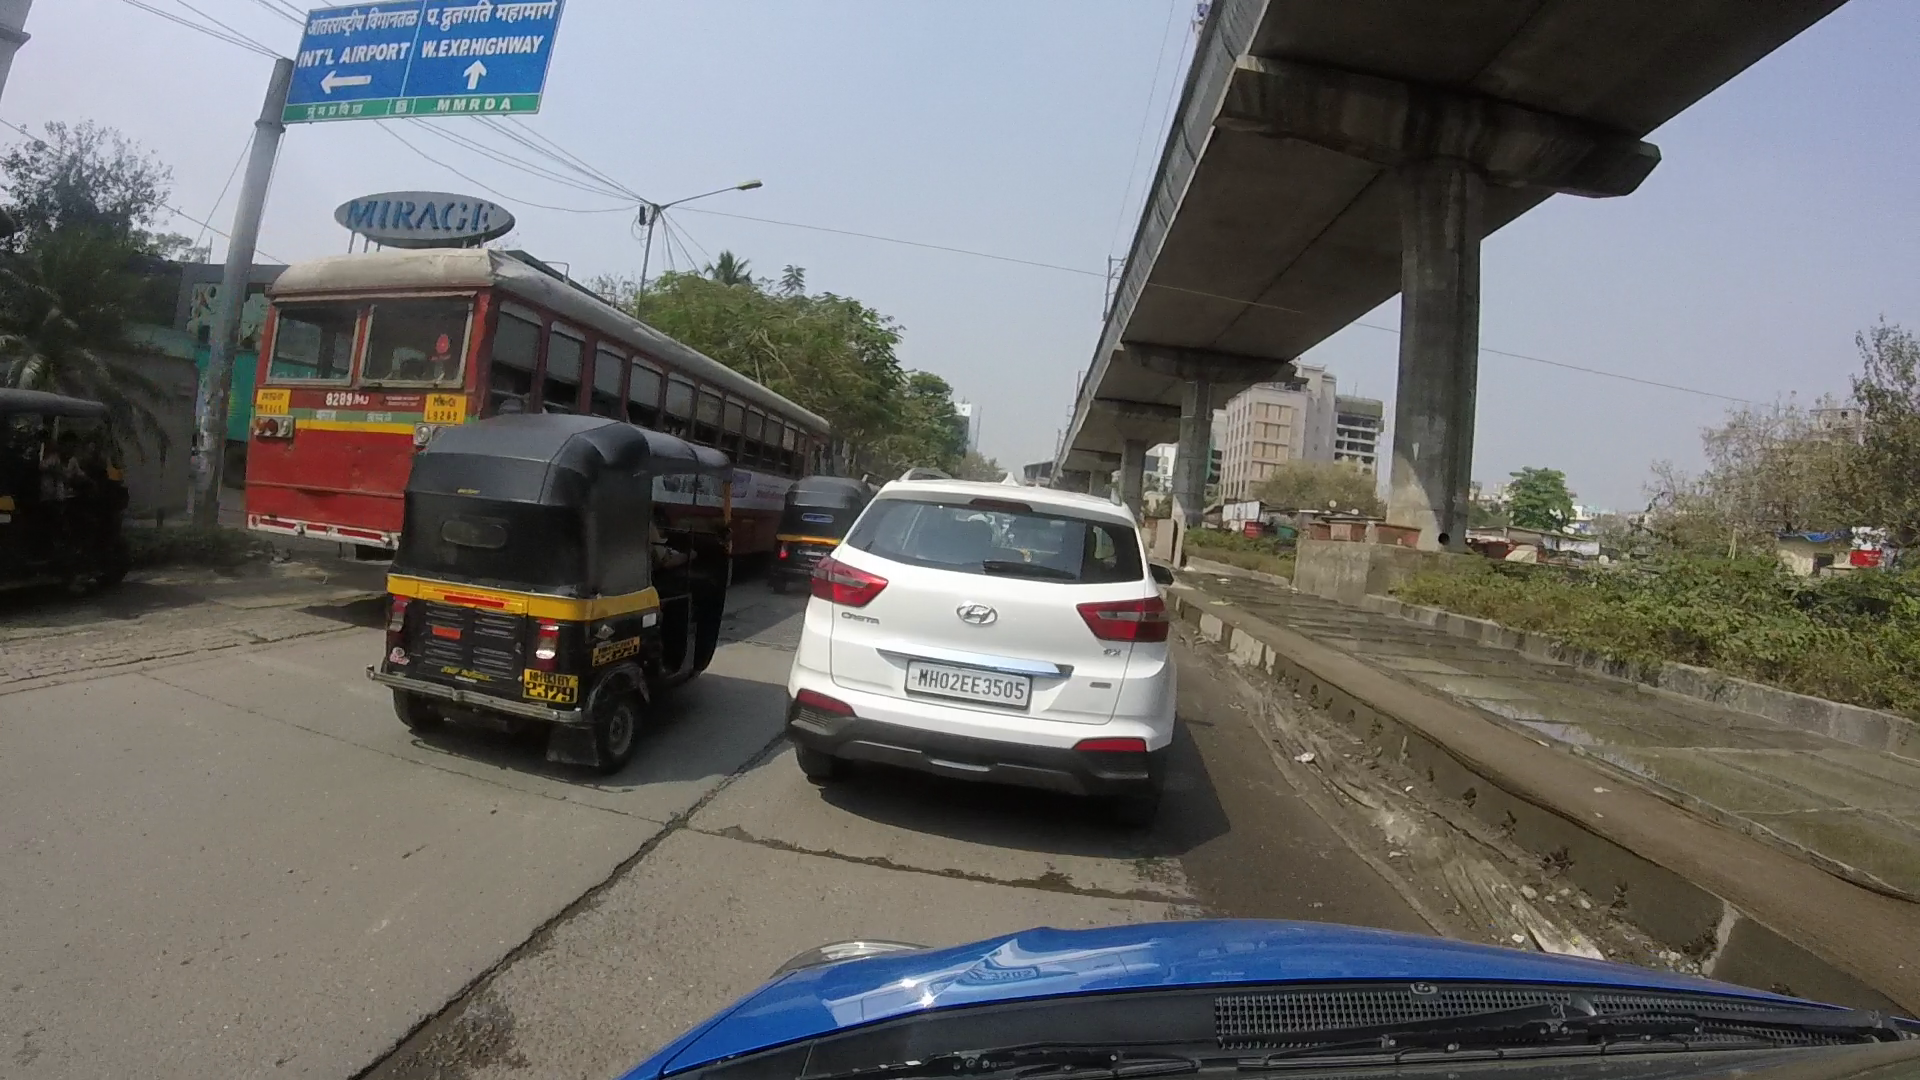bus: (237, 248, 822, 574)
car: (781, 469, 1182, 807)
rickshaw: (384, 415, 749, 754), (790, 463, 881, 578)
